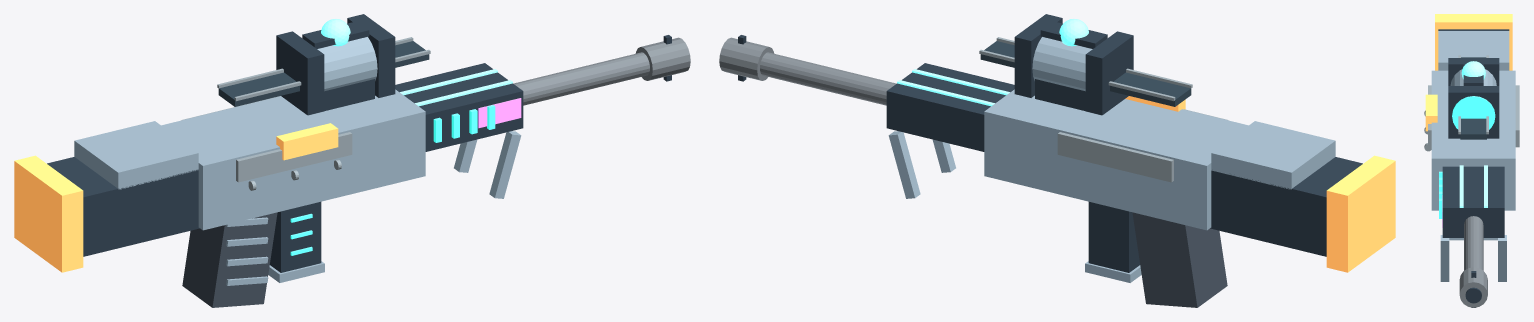
File: sniper.glb
3 views of the same model, side by side, from view 1: azimuth 30°, elevation 25°; view 2: azimuth 150°, elevation 25°; view 3: azimuth 270°, elevation 25° (orthographic). The views are drawn at different scales.
Parts seen in each view (by area): view 1: Sniper_Receiver, Long_Stock, Butt_Plate, Sniper_Grip, Stock_Cheek, Barrel_Shroud, Long_Barrel, Scope_Ring_A, MAGAZINE, Longshot_Scope_tube, UPGRADE_RECEIVER_SIDE_PLATE_L, UPGRADE_TOP_RAIL_FIN (+13 smaller); view 2: Sniper_Receiver, Long_Stock, Sniper_Grip, Barrel_Shroud, Butt_Plate, Stock_Cheek, Long_Barrel, MAGAZINE, Scope_Ring_A, UPGRADE_RECEIVER_SIDE_PLATE_R, Longshot_Scope_tube, UPGRADE_TOP_RAIL_FIN (+11 smaller); view 3: Sniper_Receiver, Barrel_Shroud, Stock_Cheek, Butt_Plate, Scope_Ring_B, Long_Barrel, Longshot_Scope_ring, Sniper_Muzzle, Scope_Ring_A, UPGRADE_TOP_RAIL_FIN, Bipod_Right, Sniper_Bolt (+12 smaller).
Boxes of the visible parts, box(x1,y1,x2,y2) form: Sniper_Receiver: box(161, 89, 425, 230); Long_Stock: box(47, 157, 199, 256); Butt_Plate: box(14, 155, 83, 272); Sniper_Grip: box(182, 212, 277, 307); Stock_Cheek: box(74, 121, 198, 189); Barrel_Shroud: box(395, 63, 523, 151); Long_Barrel: box(513, 52, 649, 105); Scope_Ring_A: box(276, 31, 324, 115); MAGAZINE: box(270, 201, 321, 272); Longshot_Scope_tube: box(317, 37, 377, 91); UPGRADE_RECEIVER_SIDE_PLATE_L: box(236, 132, 352, 182); UPGRADE_TOP_RAIL_FIN: box(218, 41, 429, 106); Sniper_Receiver: box(984, 89, 1248, 230); Long_Stock: box(1210, 157, 1362, 256); Sniper_Grip: box(1132, 212, 1227, 307); Barrel_Shroud: box(886, 63, 1014, 151); Butt_Plate: box(1326, 155, 1395, 272); Stock_Cheek: box(1211, 121, 1335, 189); Long_Barrel: box(760, 52, 896, 105); MAGAZINE: box(1088, 201, 1139, 272); Scope_Ring_A: box(1085, 31, 1133, 115); UPGRADE_RECEIVER_SIDE_PLATE_R: box(1057, 132, 1173, 182); Longshot_Scope_tube: box(1032, 37, 1092, 91); UPGRADE_TOP_RAIL_FIN: box(980, 41, 1191, 106); Sniper_Receiver: box(1431, 70, 1515, 210); Barrel_Shroud: box(1442, 166, 1504, 237); Stock_Cheek: box(1438, 31, 1509, 70); Butt_Plate: box(1435, 14, 1512, 70); Scope_Ring_B: box(1448, 86, 1499, 138); Long_Barrel: box(1464, 216, 1483, 270); Longshot_Scope_ring: box(1452, 96, 1495, 129); Sniper_Muzzle: box(1459, 267, 1487, 307); Scope_Ring_A: box(1448, 58, 1499, 85); UPGRADE_TOP_RAIL_FIN: box(1460, 57, 1486, 139); Bipod_Right: box(1440, 235, 1449, 281); Sniper_Bolt: box(1425, 94, 1437, 131).
Size of the model in its own units: 2.73 by 1.01 by 0.43.
